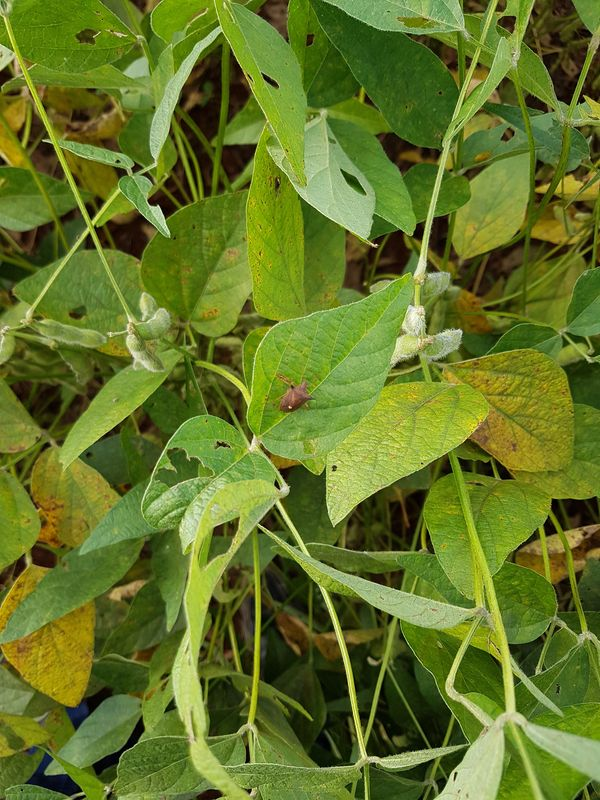Euschistus_heros_adulto: (271, 374, 320, 421)
